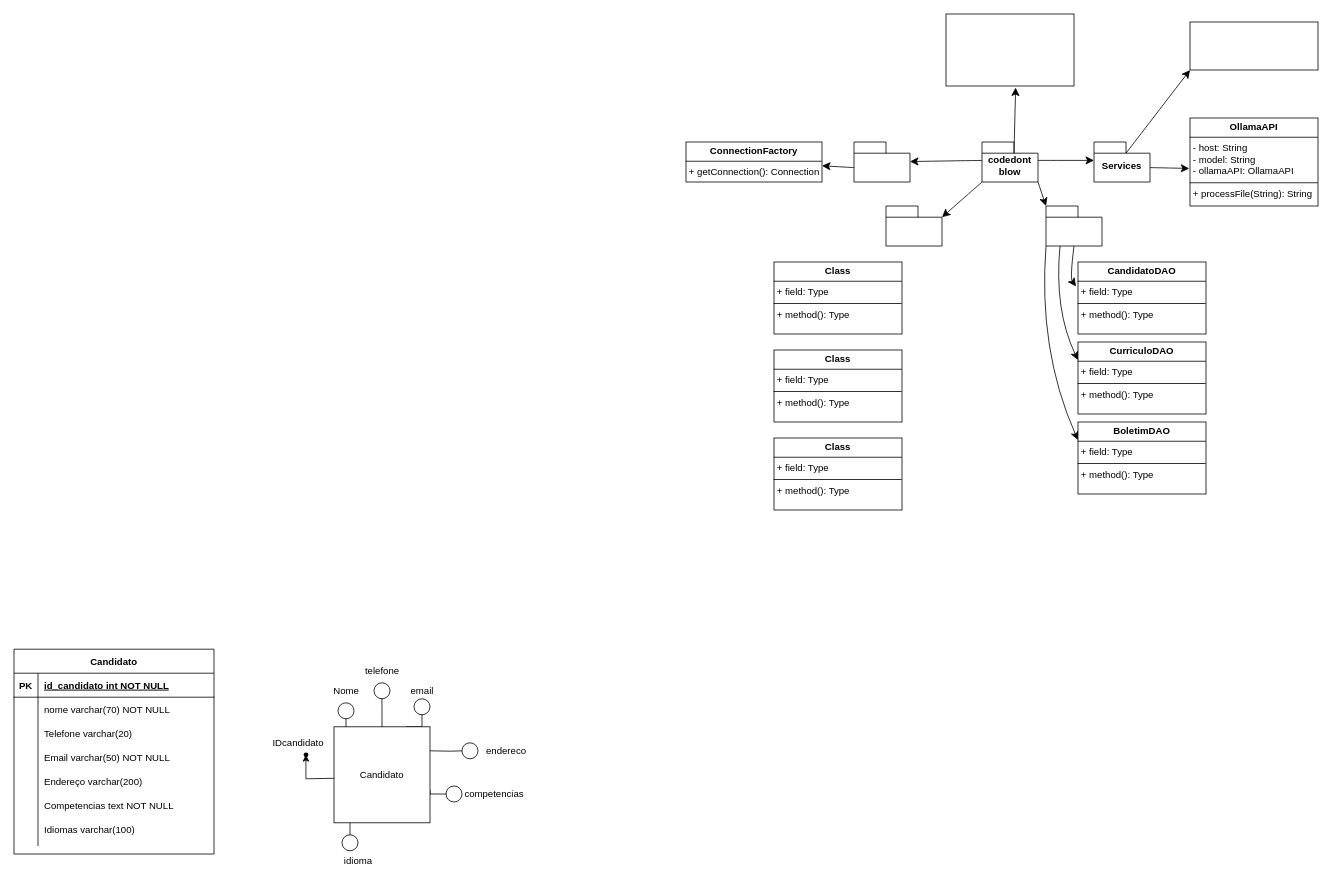
Image size: 1332x887. Some labels were removed from this diagram. Each missing label, with the centre of its shape:
"Dao" belongs at point 1073,225.
"Factory" belongs at point 881,161.
"InputDocuments + selectFile(): Connection" belongs at point 1253,45.
"Main + main(String[] args): void - i1: InputDocuments - api: OllamaAPI" belongs at point 1009,49.
"Model" belongs at point 913,225.
